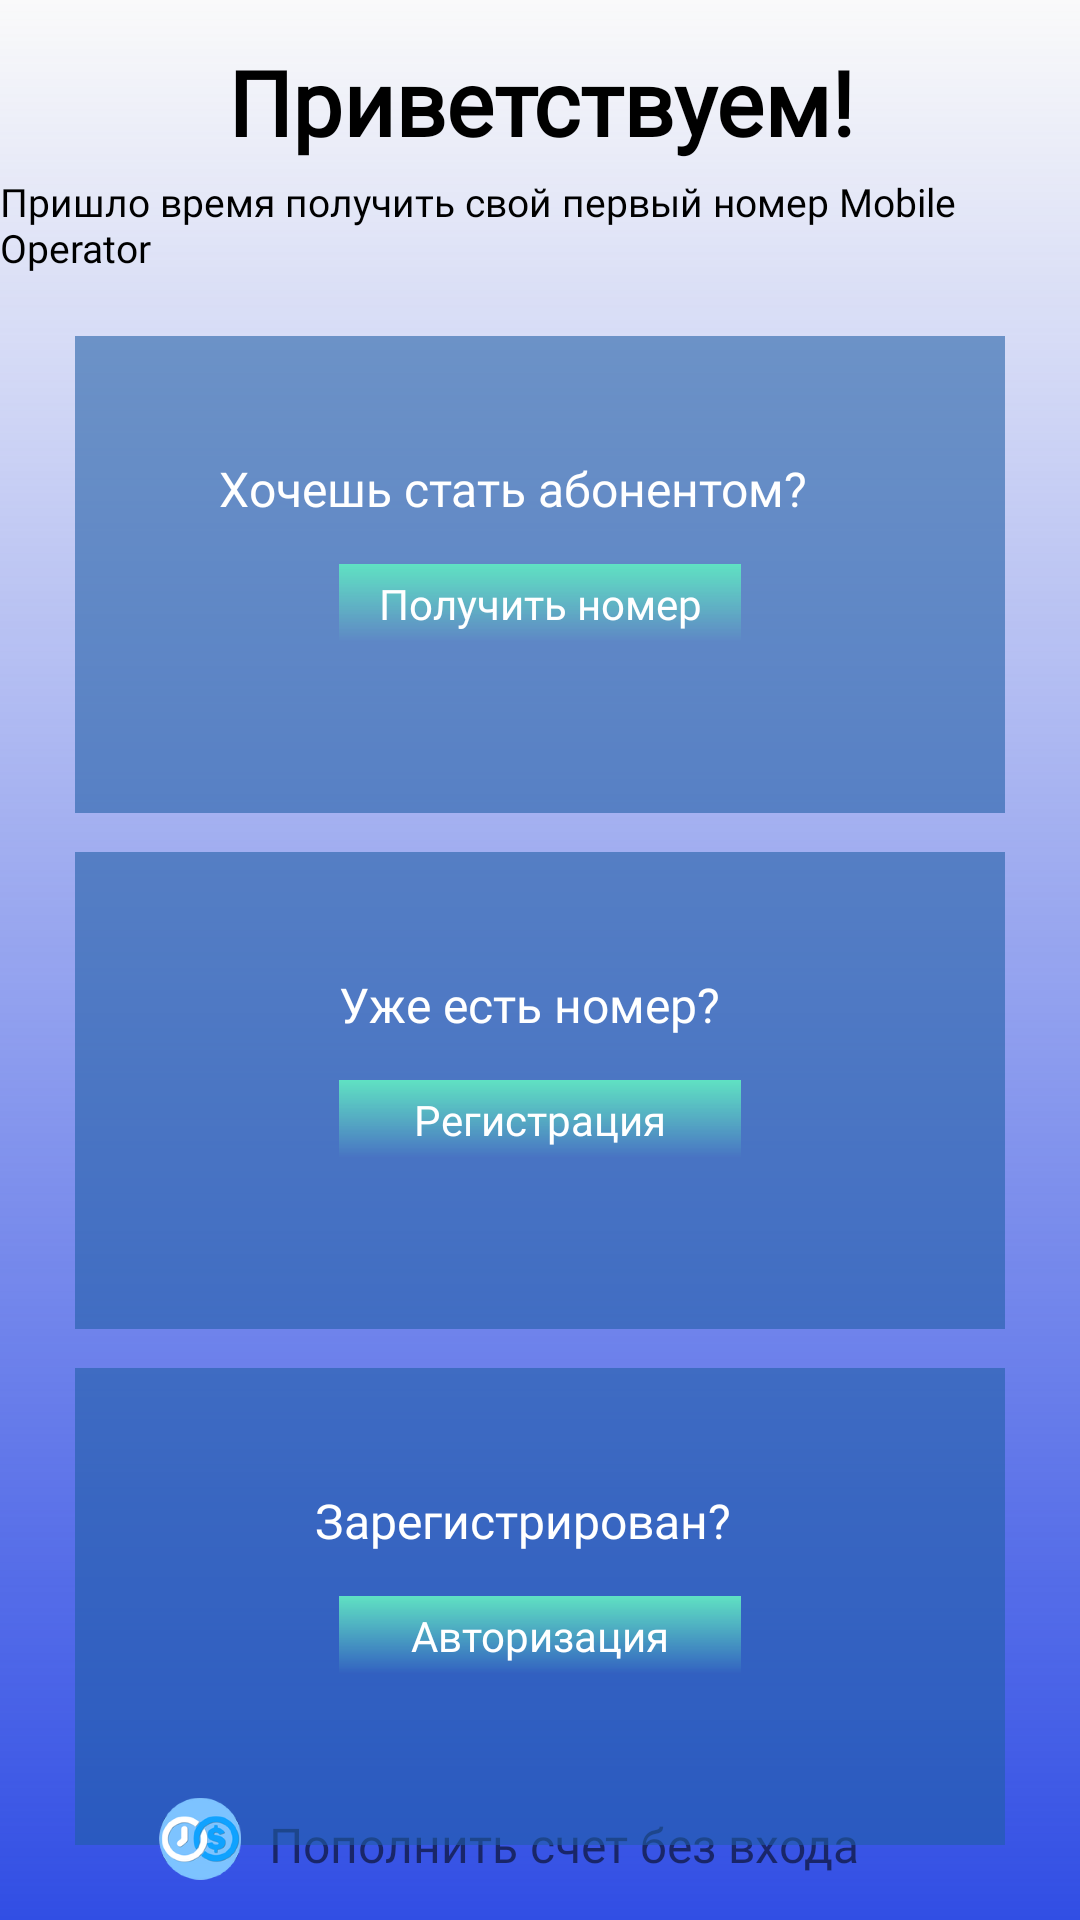

Icon click points for this 1080px×1920px phone screenshot, format [x,y]:
money: [200,1838]
